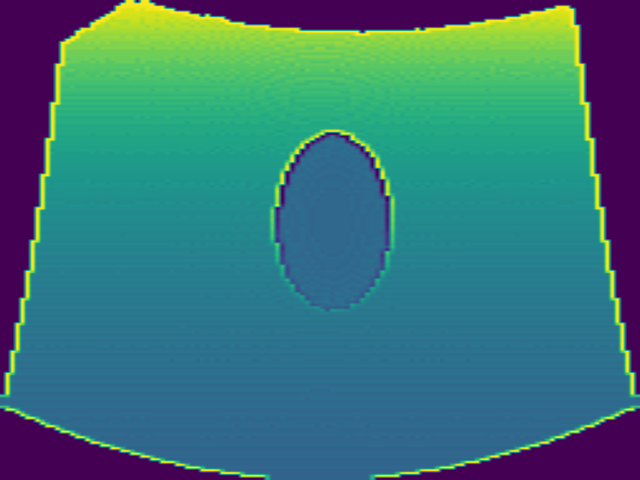sphere: (269, 126, 393, 313)
